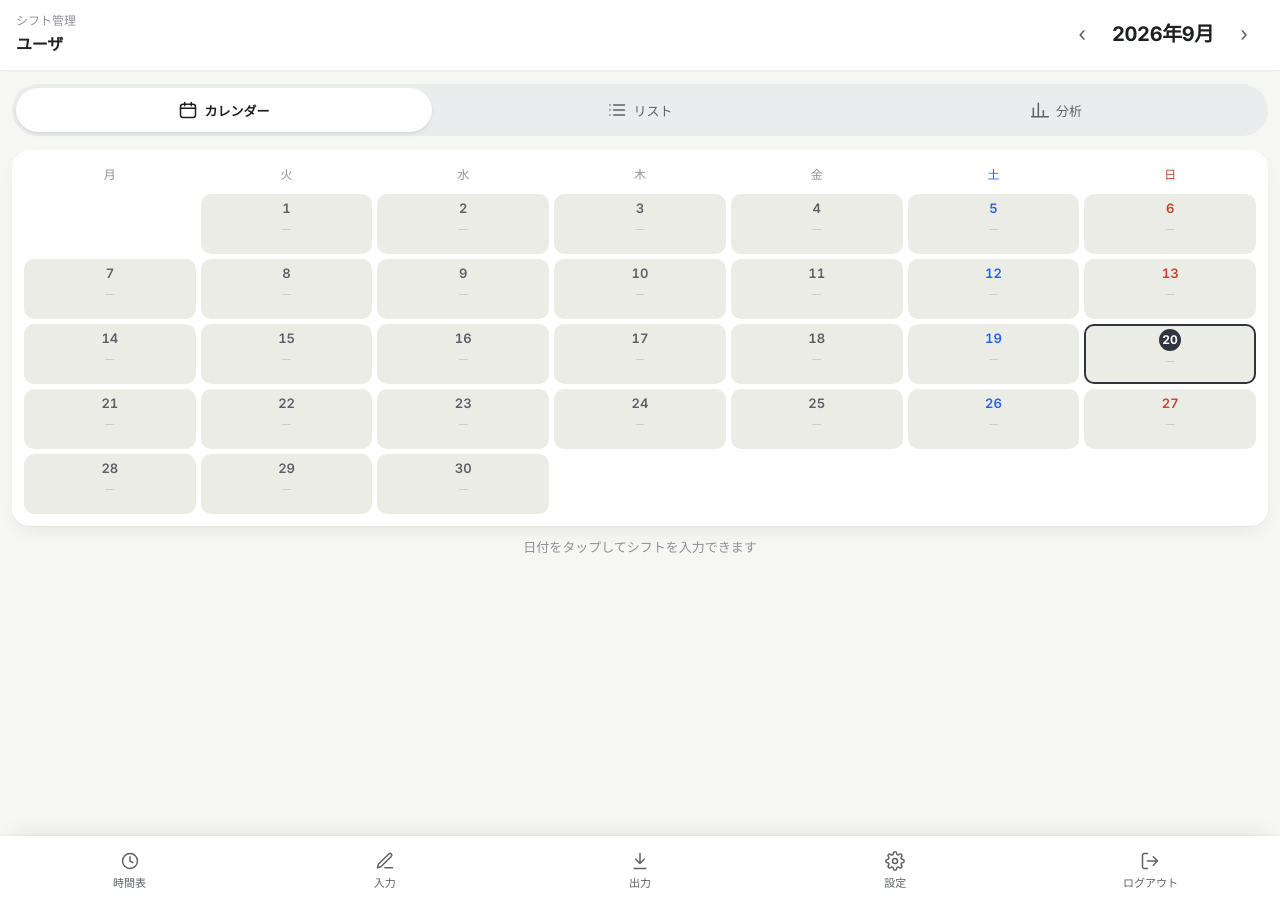
Test: App コンポーネント › 保存ボタンをクリックするとポップアップが閉じる
The width and height of the screenshot is (1280, 900).
Click the text "1": (286, 209) [282,199,291,218]
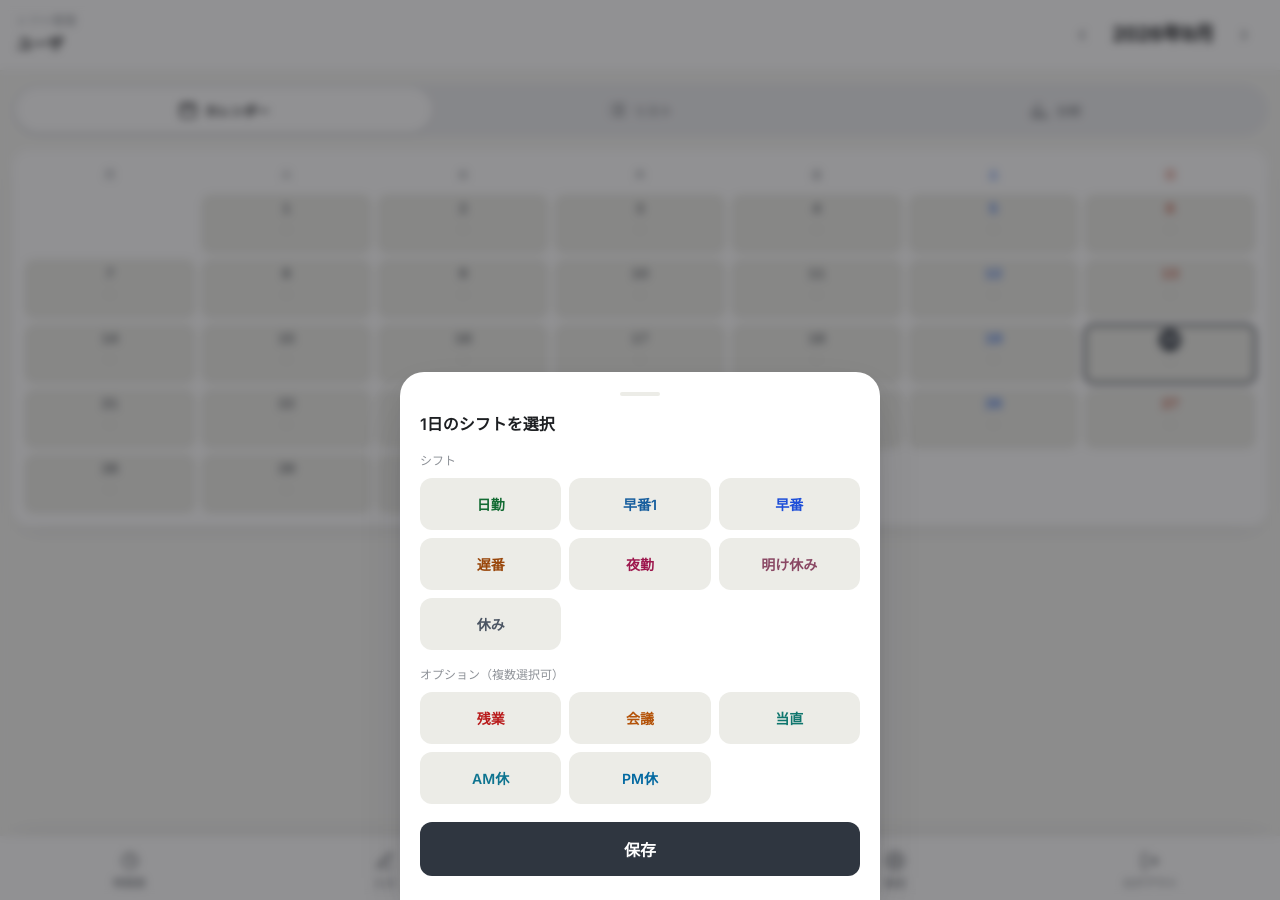
Click the button "保存": (640, 849) [420,822,860,876]
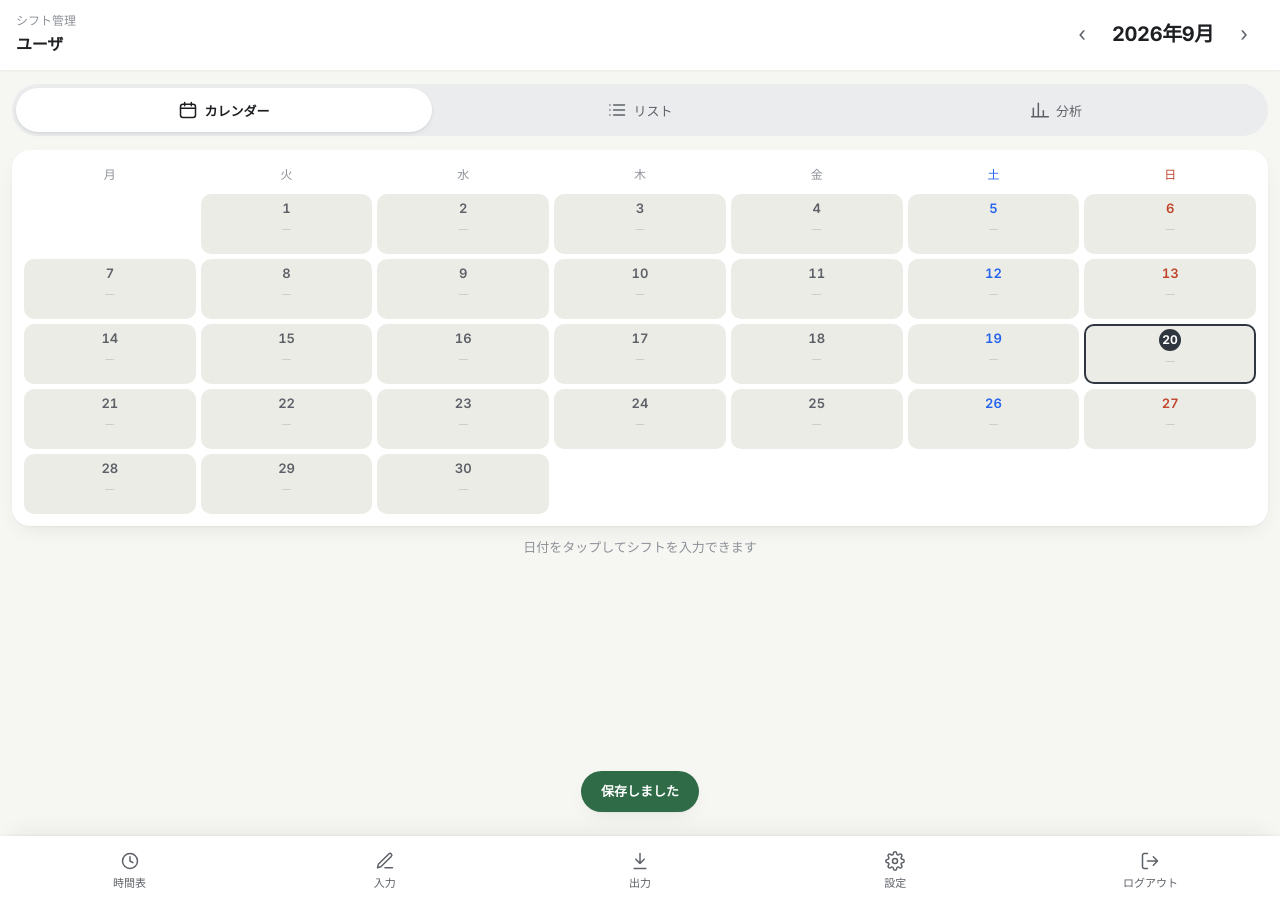
Expected: the text "日のシフトを選択" is gone
